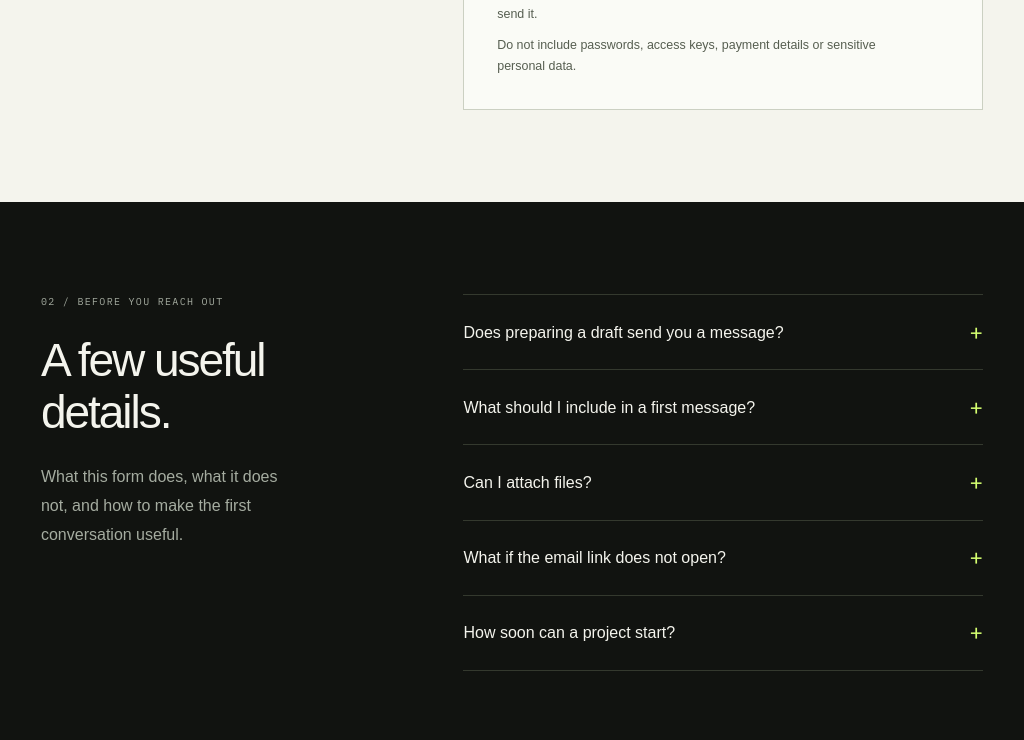
it: contact draft workflow › shows verified contact routes, clear data handling and native disclosure FAQs
The image size is (1024, 740).
(page scrolled)
Expected: the text "Do not include passwords" is shown, [497,38,876,73]
Click the heading "Can I attach files? +": (527, 482) [464,467,983,496]
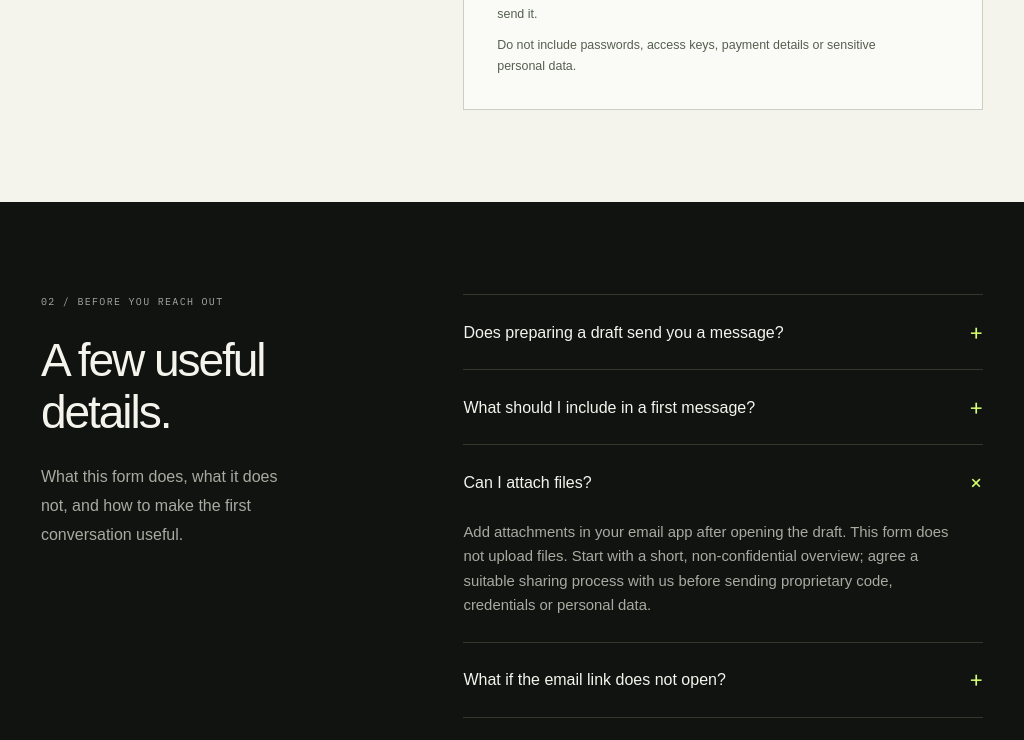
Now the text "Add attachments in your email app" is shown, box [464,524,949,613]
